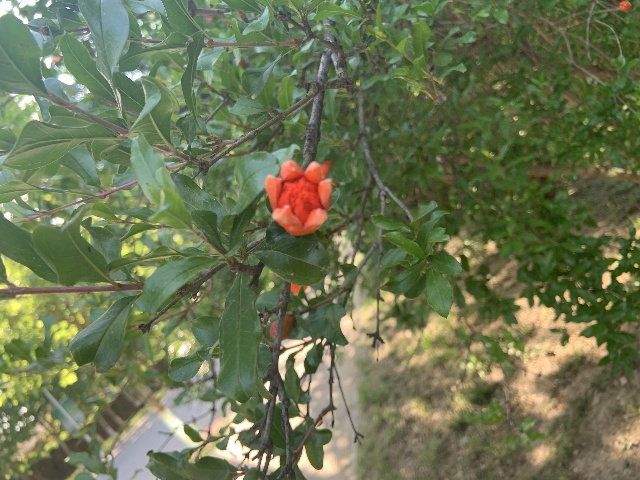bud: (270, 314, 294, 340), (619, 0, 632, 11)
flower: (264, 158, 333, 236)
